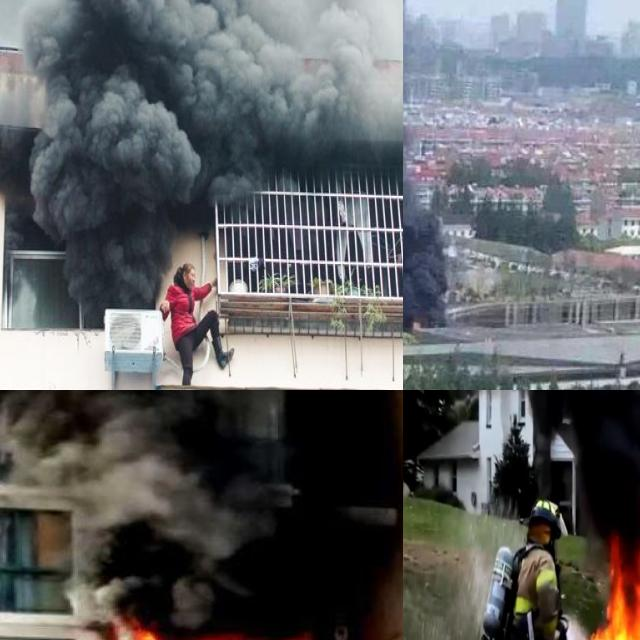fire: (577, 528, 640, 640)
smoke: (0, 390, 403, 640), (0, 0, 403, 133), (529, 390, 640, 530), (30, 200, 170, 310)
